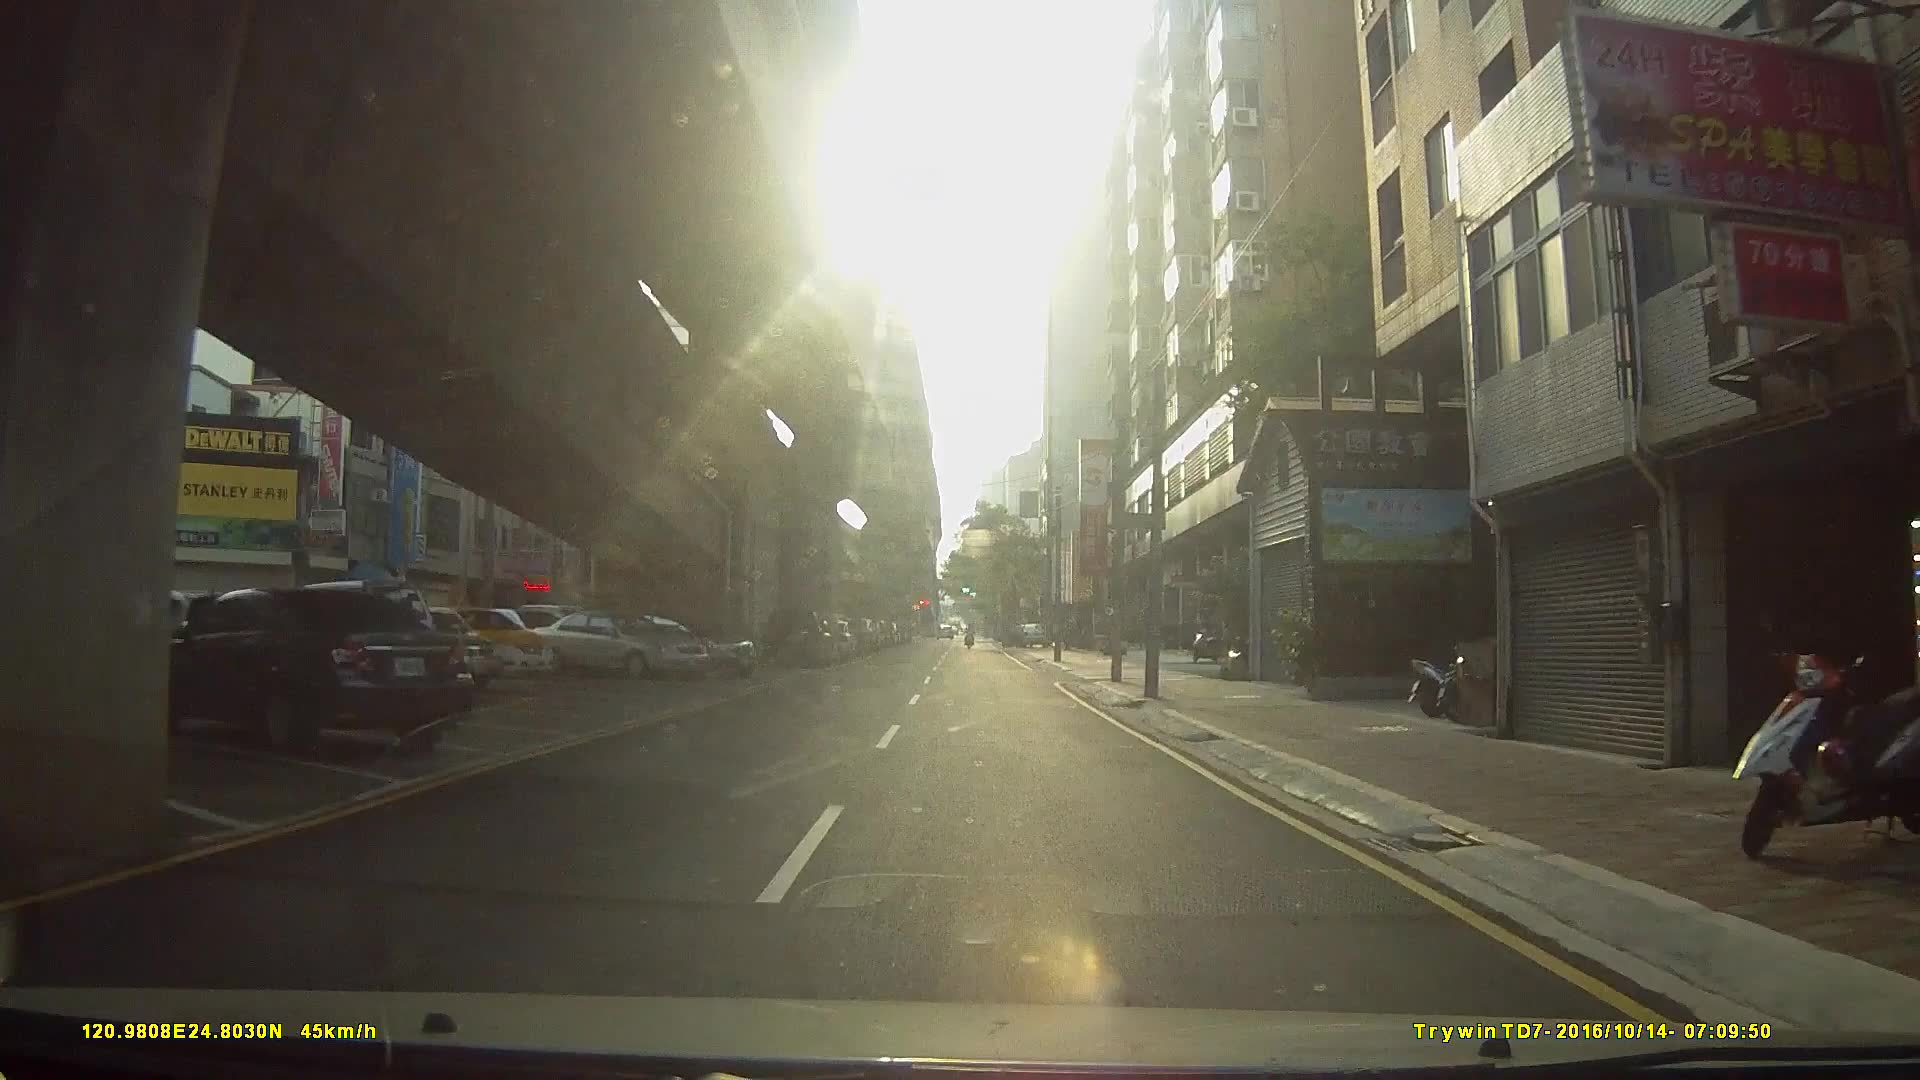vehicle: (146, 585, 471, 757), (521, 604, 708, 675), (589, 607, 757, 676), (419, 603, 554, 675), (760, 600, 833, 665)
